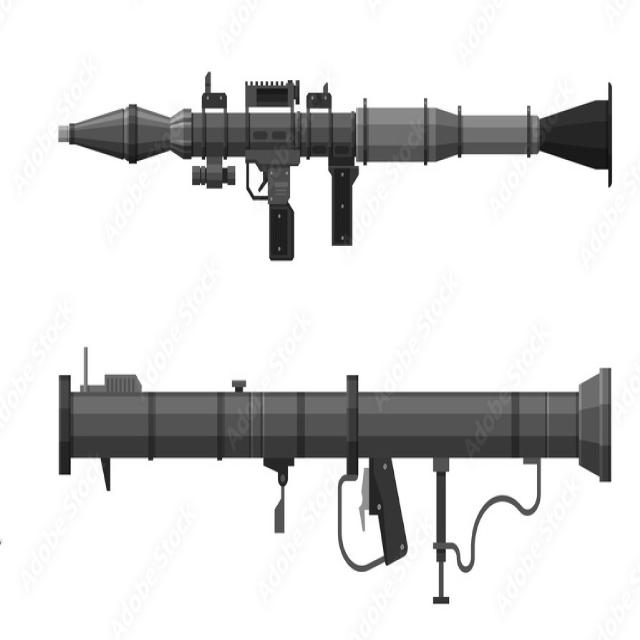Weapon: (59, 368, 610, 564), (59, 73, 611, 259)
